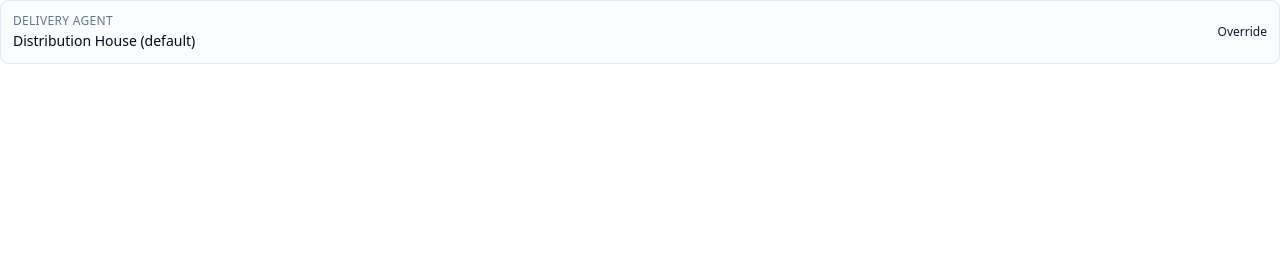
Scenario: DeliveryOverrideSelector › Apply button is enabled once Entity ID is filled
The image size is (1280, 261).
Click the button "Override" at coordinates (1242, 32), box [1218, 24, 1267, 40]
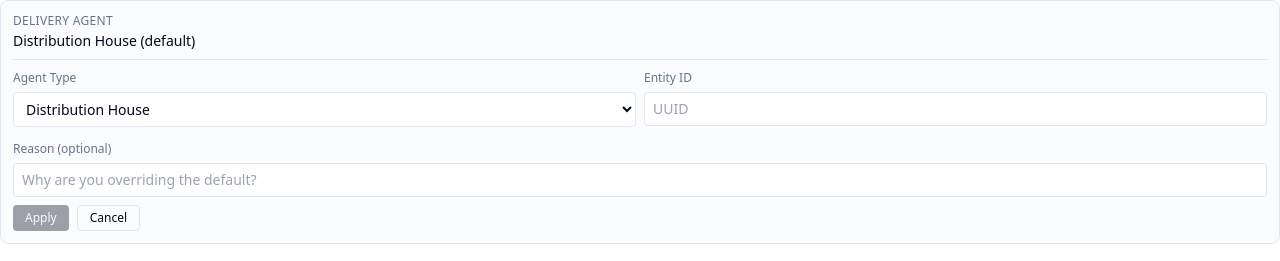
Type "some-uuid" into the field with placeholder "UUID" at coordinates (956, 109), box [644, 92, 1267, 126]
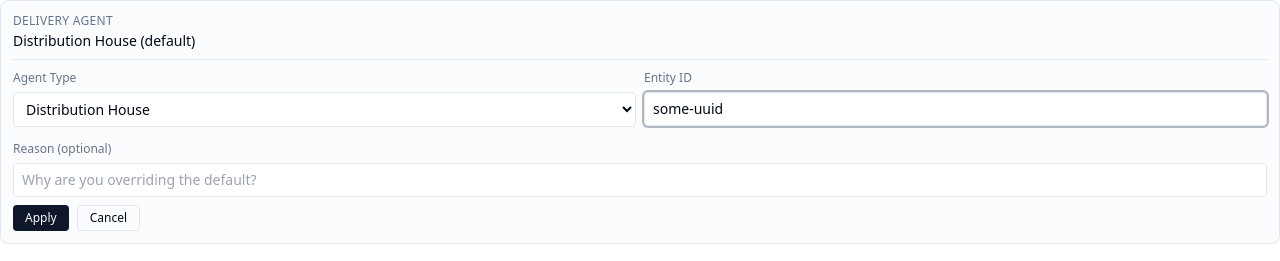
Result: the button "Apply" is enabled at [13, 205, 69, 231]
